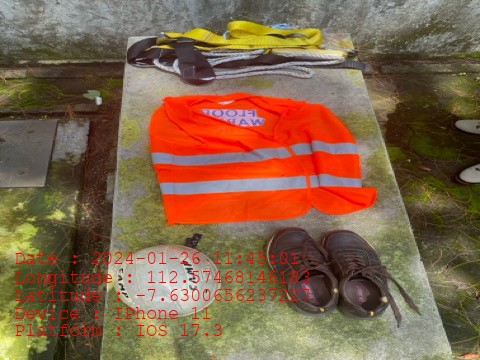ROMPI: (149, 93, 364, 222)
